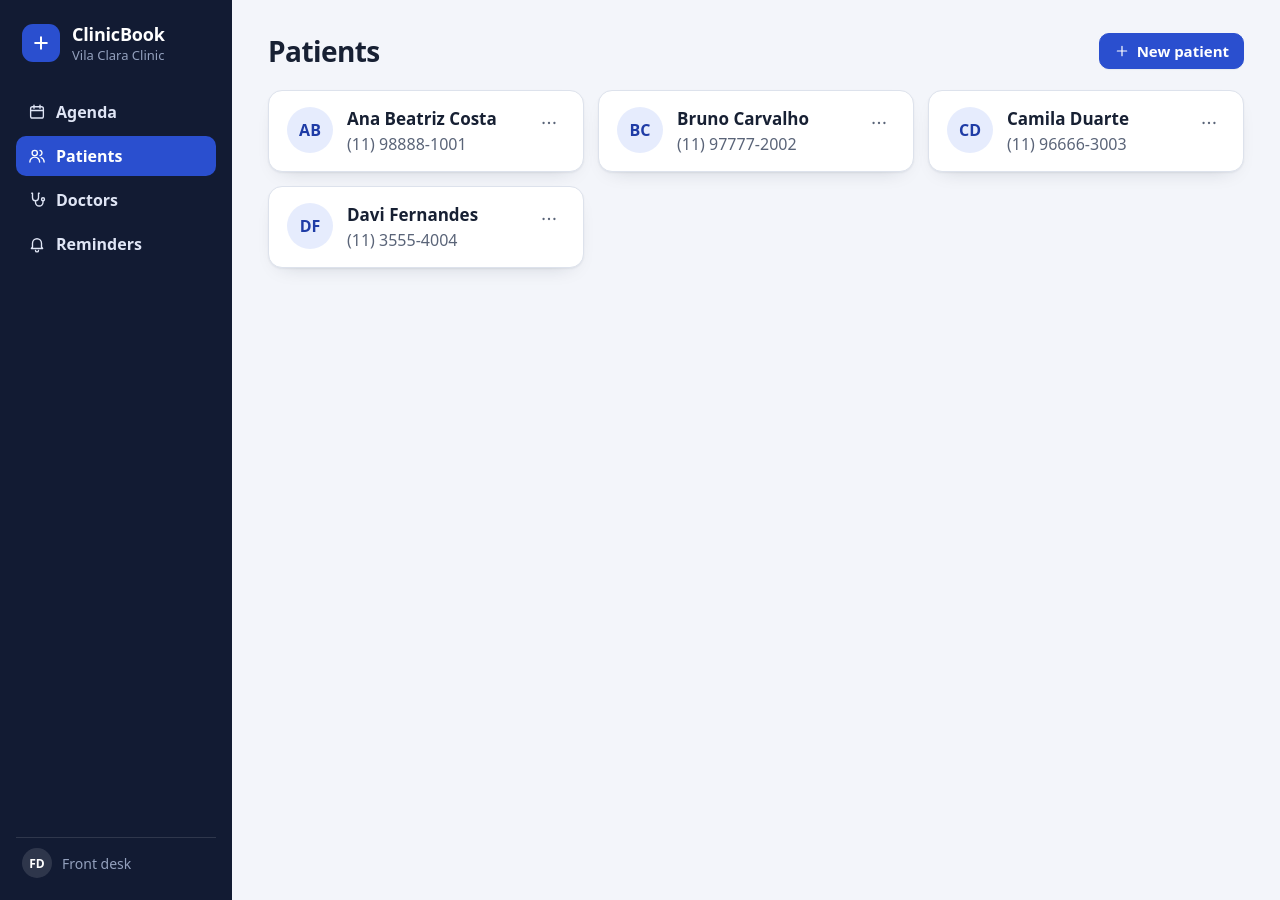
Scenario: the toasts › say that a patient was removed, or why not
Expected: the navigation bar named "Main" is shown, [16, 92, 216, 264]
Click the button named "Actions for Davi Fernandes": click(549, 219) [533, 203, 565, 235]
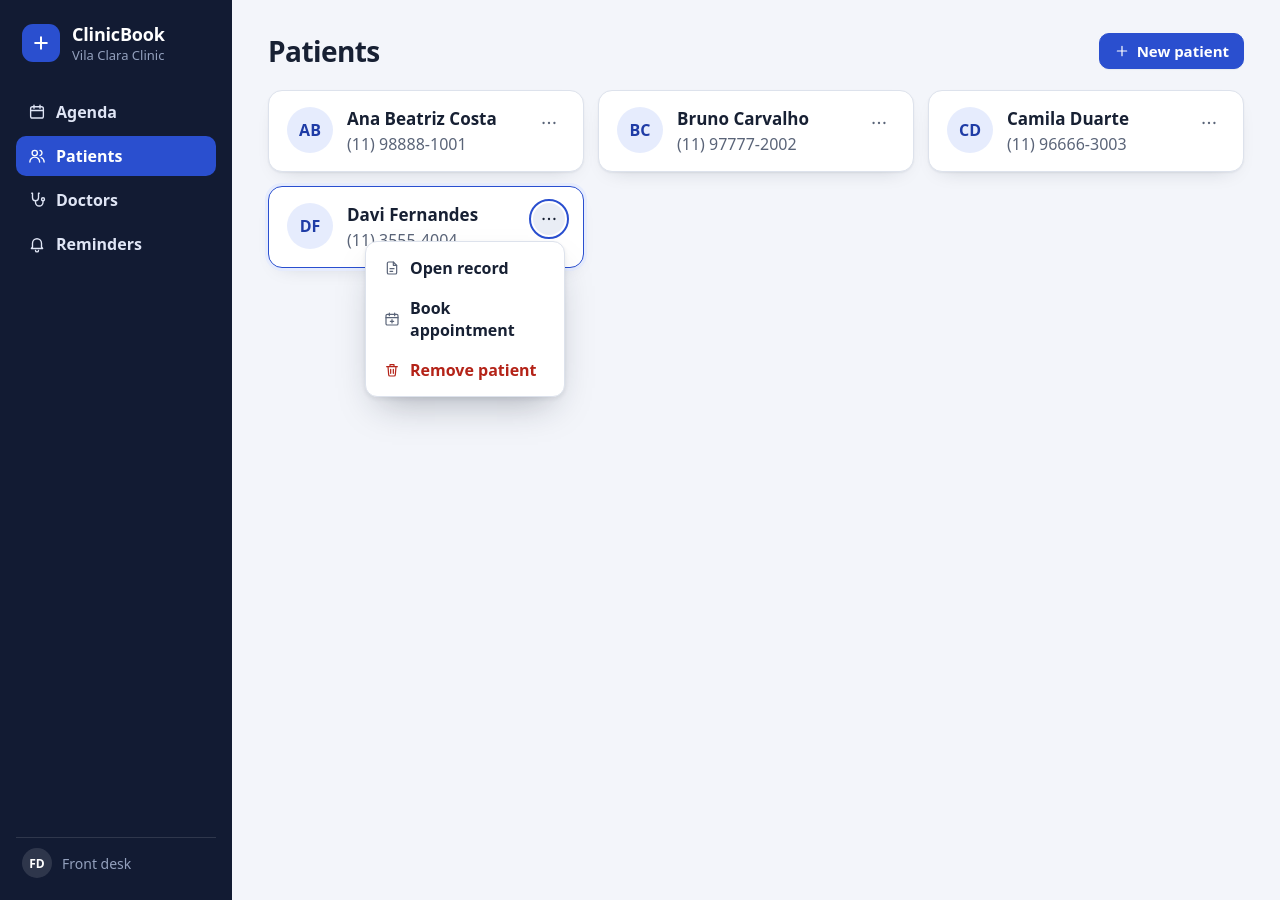
Click the menu item "Remove patient": click(465, 370) [372, 350, 558, 390]
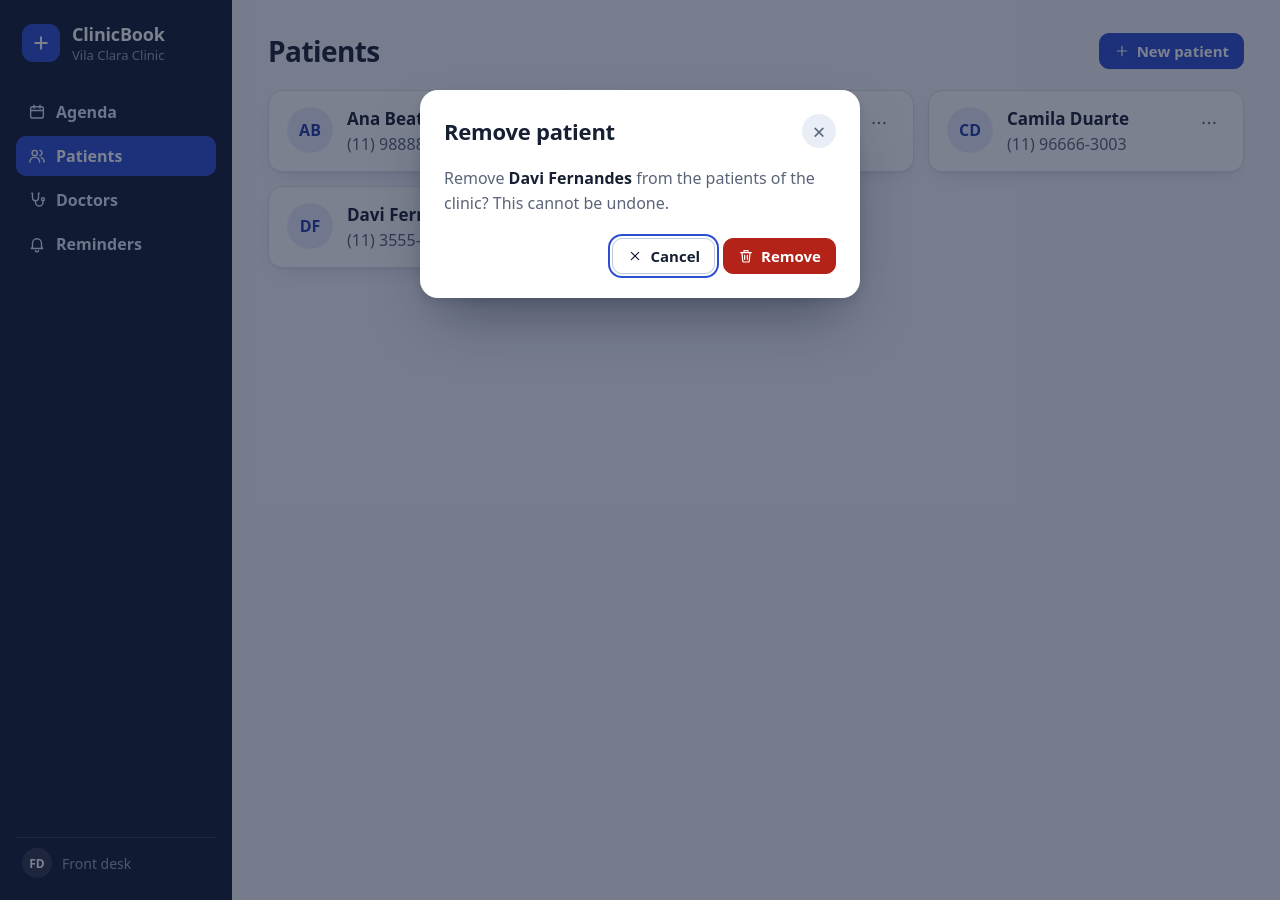
Click the button "Remove": click(780, 256) [723, 238, 836, 274]
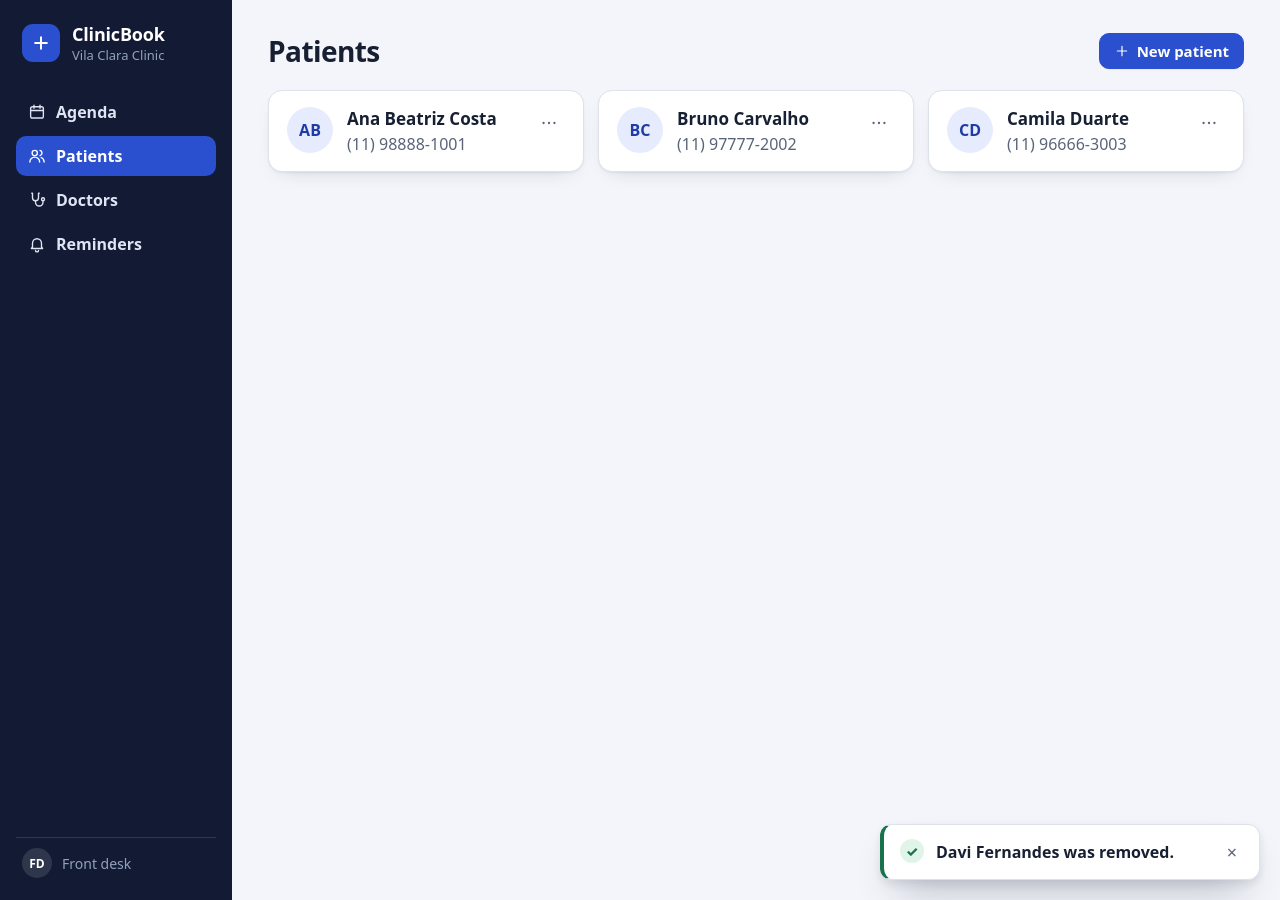
Now the message reads "Davi Fernandes was removed.", box [936, 841, 1174, 863]
Click the button named "Actions for Bruno Carvalho": click(879, 123) [863, 107, 895, 139]
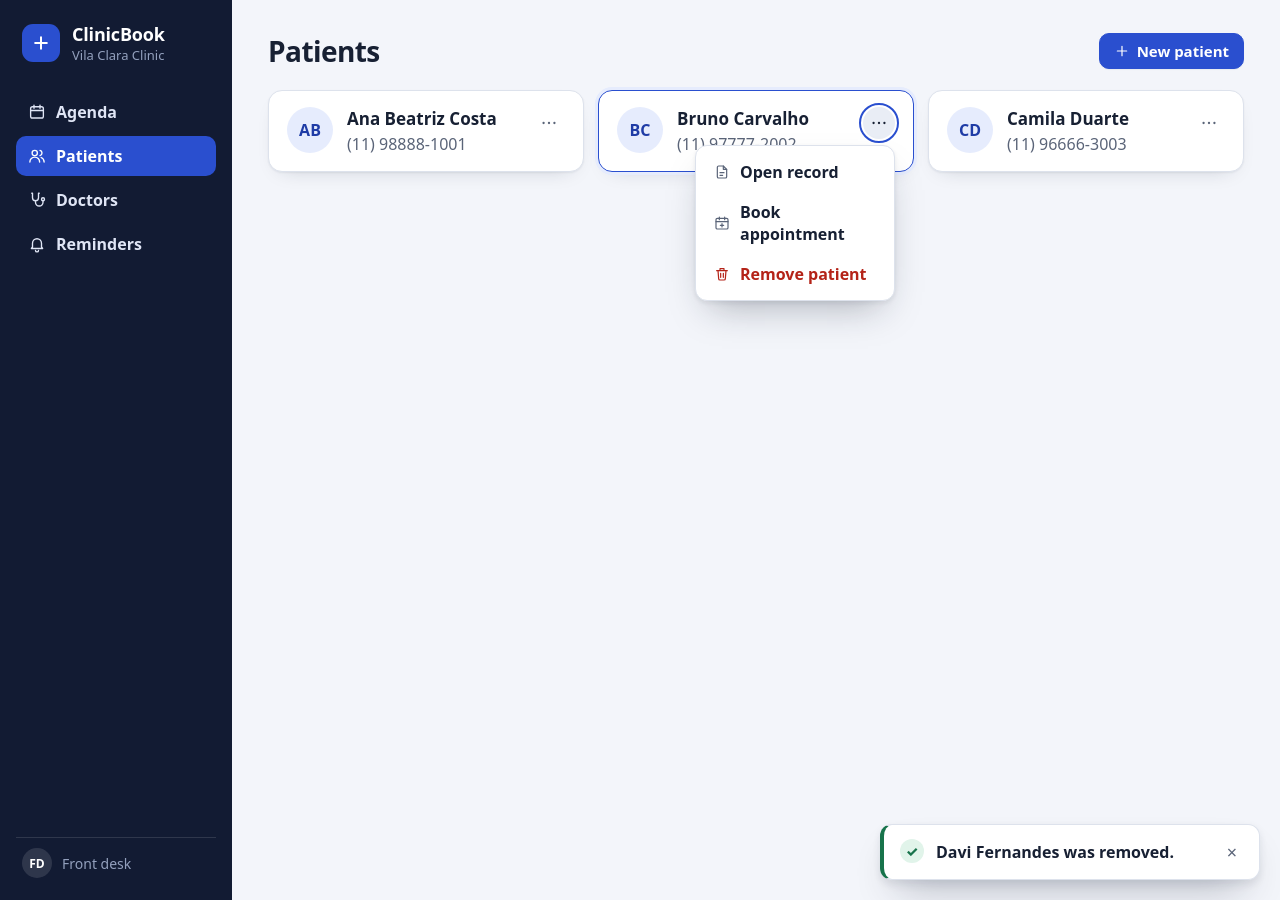
Click the menu item "Remove patient": click(795, 274) [702, 254, 888, 294]
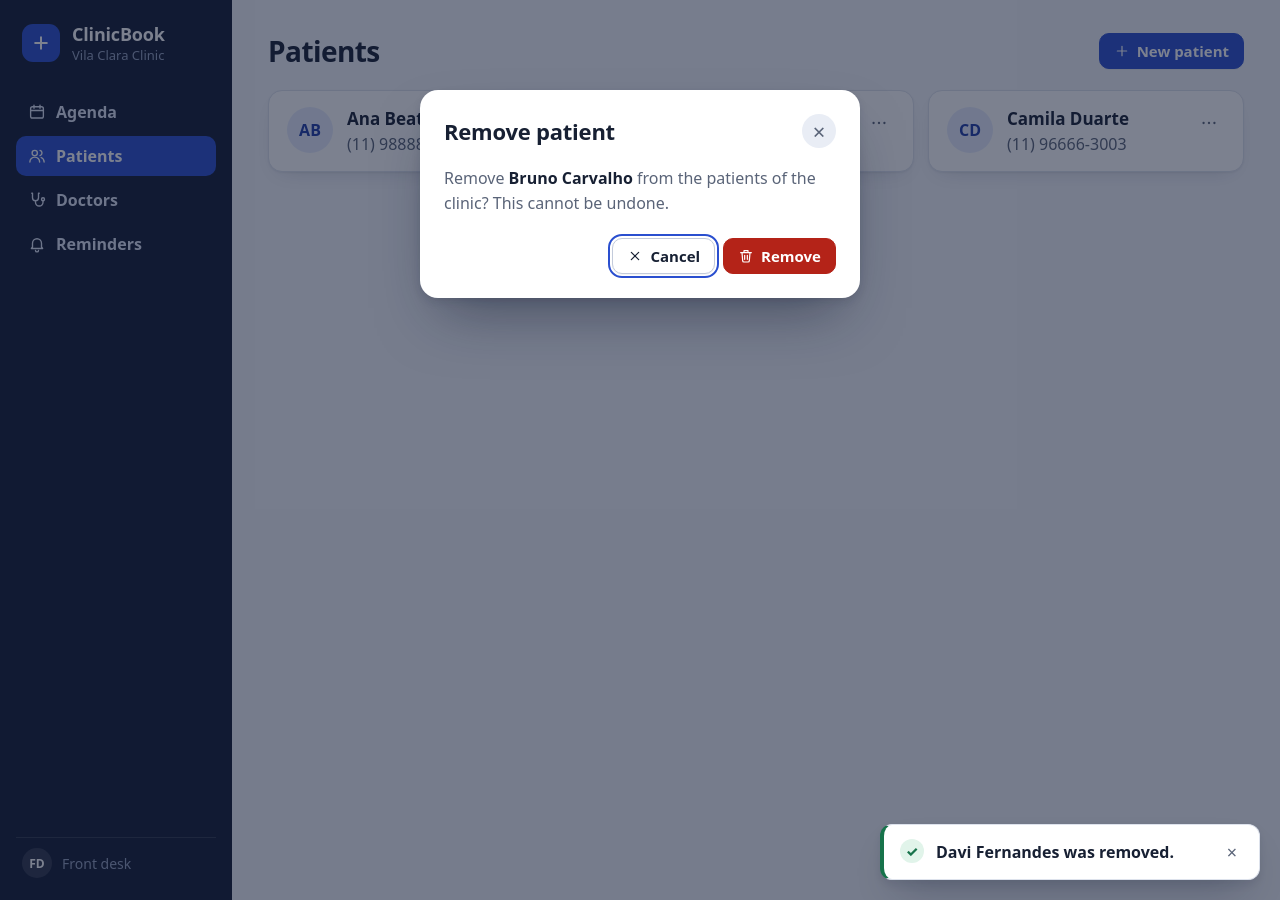
Click the button "Remove": click(780, 256) [723, 238, 836, 274]
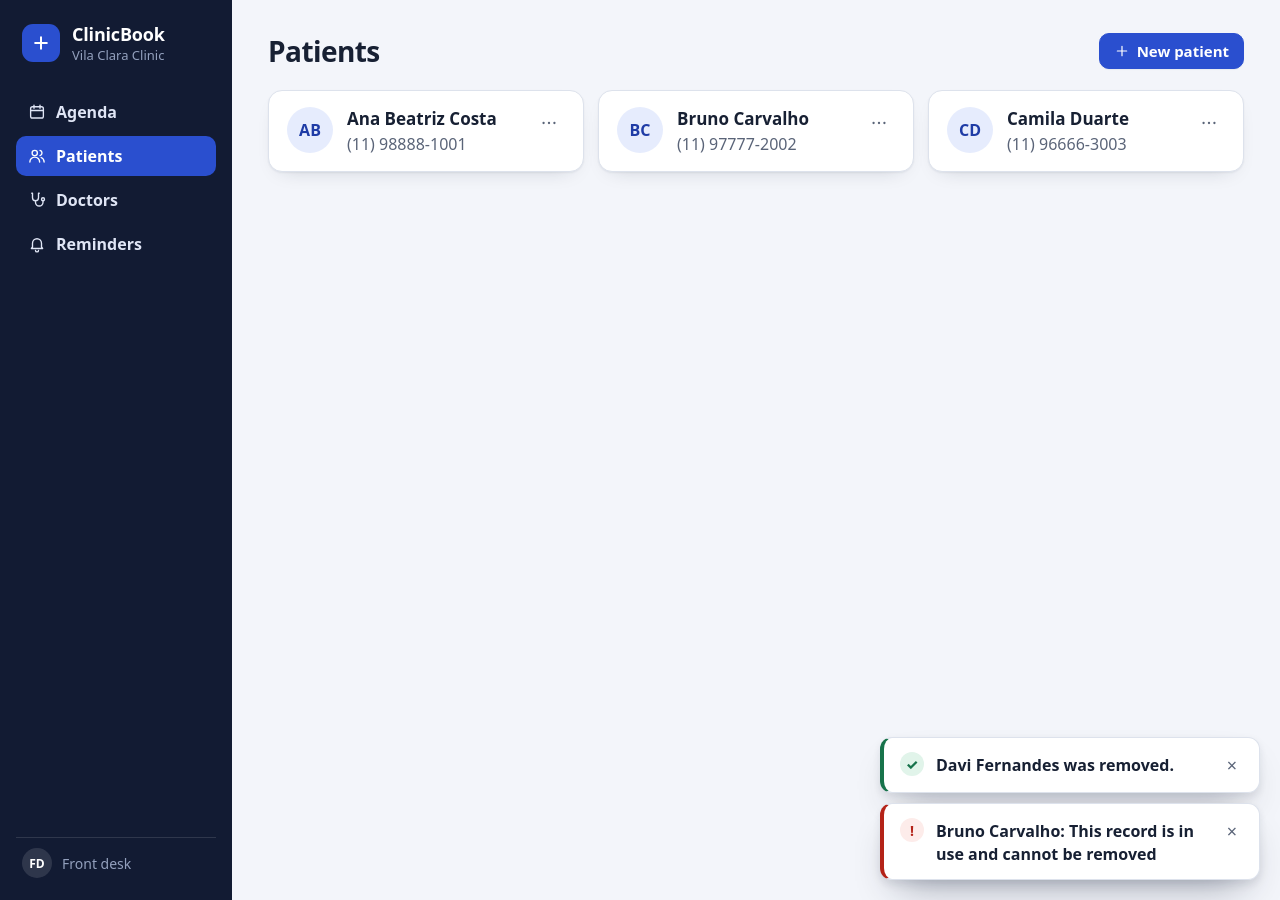
Now the message "Bruno Carvalho: This record is in use and cannot be removed" is shown, box [936, 820, 1207, 865]
